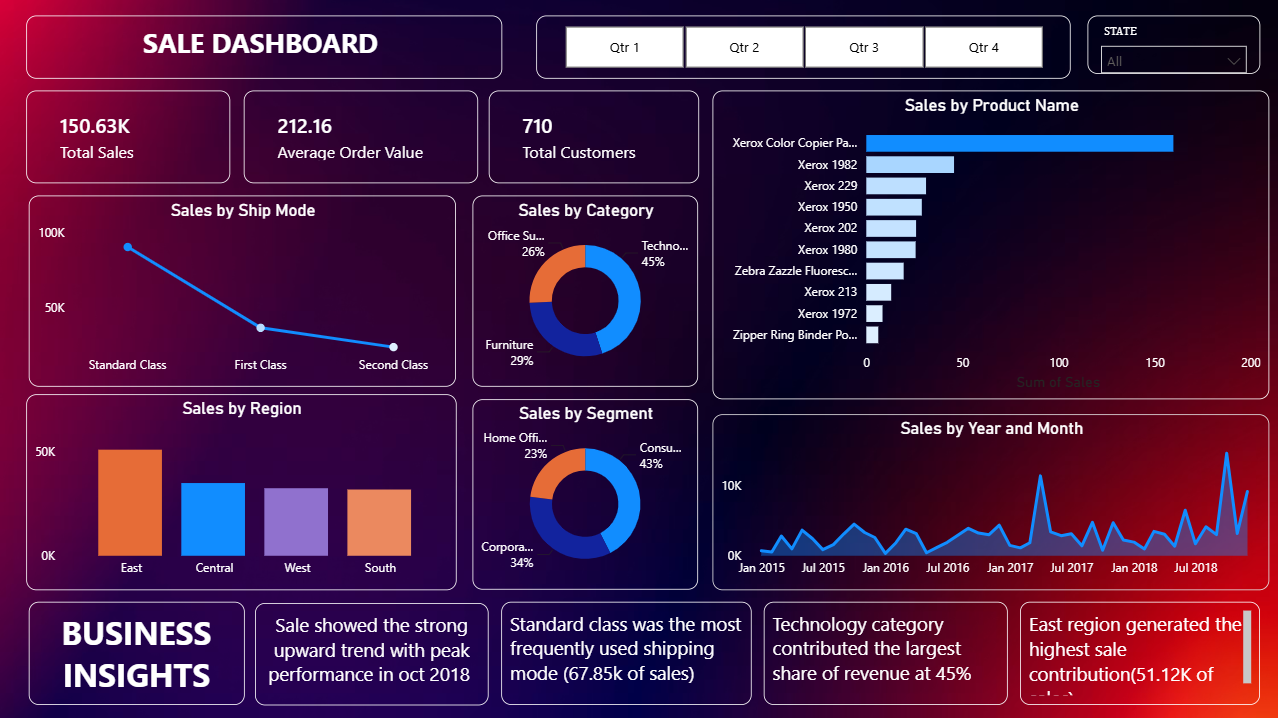

The page's visual inventory and layout, read from the dashboard file:
{"tool":"powerbi","page":{"name":"sale overview ","canvas":[1280,720],"ordinal":0},"visuals":[{"type":"textbox","box":[25.7,17.1,475.7,62.9],"z":0},{"type":"areaChart","title":"Sales by Year and Month","fields":{"Category":["sale.Order Date.Variation.Date Hierarchy.Year","sale.Order Date.Variation.Date Hierarchy.Month"],"Y":["Sum(sale.Sales)"]},"box":[712.9,415.7,557.1,175.7],"z":1000},{"type":"columnChart","title":" Sales by Region","fields":{"Category":["sale.Region"],"Y":["Sum(sale.Sales)"]},"box":[25.7,395.7,430,195.7],"z":2000},{"type":"donutChart","title":" Sales by Category","fields":{"Category":["sale.Category"],"Y":["Sum(sale.Sales)"]},"box":[472.9,197.1,225.7,191.4],"z":3000},{"type":"donutChart","title":" Sales by Segment ","fields":{"Category":["sale.Segment"],"Y":["Sum(sale.Sales)"]},"box":[472.9,401.4,225.7,190],"z":4000},{"type":"cardVisual","fields":{"Data":["sale.Total Sales1"]},"box":[25.7,92.9,204.3,92.9],"z":5000},{"type":"lineChart","title":"Sales by Ship Mode","fields":{"Category":["sale.Ship Mode"],"Y":["Sum(sale.Sales)"]},"box":[28.6,197.1,427.1,191.4],"z":6000},{"type":"barChart","title":" Sales by Product Name","fields":{"Category":["sale.Product Name"],"Y":["Sum(sale.Sales)"]},"box":[712.9,92.9,557.1,308.6],"z":7000},{"type":"slicer","fields":{"Values":["sale.Order Date.Variation.Date Hierarchy.Quarter"]},"box":[535.7,17.1,534.3,62.9],"z":8000},{"type":"slicer","fields":{"Values":["sale.State"]},"box":[1087.1,17.1,172.9,58.6],"z":9000},{"type":"cardVisual","fields":{"Data":["CountNonNull(order_id.Customer ID)"]},"box":[488.6,92.9,210,92.9],"z":10000},{"type":"cardVisual","fields":{"Data":["sale.Average Order Value"]},"box":[244.3,92.9,234.3,92.9],"z":11000},{"type":"textbox","box":[28.6,604.3,215.7,102.9],"z":12000},{"type":"textbox","box":[254.5,604.5,233.6,102.7],"z":13000},{"type":"textbox","box":[501.4,604.3,250,102.9],"z":13001},{"type":"textbox","box":[764.3,604.3,244.3,102.9],"z":13002},{"type":"textbox","box":[1020,604.3,240,102.9],"z":13003}]}

Visuals, with their boxes in screenshot pixels (x1, y1, x2, y2), scaled from the page's 1280x720 canvas onto the 1278x718 screenshot:
textbox: bbox=(26, 17, 501, 80)
"Sales by Year and Month" areaChart: bbox=(712, 415, 1268, 590)
" Sales by Region" columnChart: bbox=(26, 395, 455, 590)
" Sales by Category" donutChart: bbox=(472, 197, 698, 387)
" Sales by Segment " donutChart: bbox=(472, 400, 698, 590)
cardVisual - sale.Total Sales1: bbox=(26, 93, 230, 185)
"Sales by Ship Mode" lineChart: bbox=(29, 197, 455, 387)
" Sales by Product Name" barChart: bbox=(712, 93, 1268, 400)
slicer - sale.Order Date.Variation.Date Hierarchy.Quarter: bbox=(535, 17, 1068, 80)
slicer - sale.State: bbox=(1085, 17, 1258, 75)
cardVisual - CountNonNull(order_id.Customer ID): bbox=(488, 93, 698, 185)
cardVisual - sale.Average Order Value: bbox=(244, 93, 478, 185)
textbox: bbox=(29, 603, 244, 705)
textbox: bbox=(254, 603, 487, 705)
textbox: bbox=(501, 603, 750, 705)
textbox: bbox=(763, 603, 1007, 705)
textbox: bbox=(1018, 603, 1258, 705)
